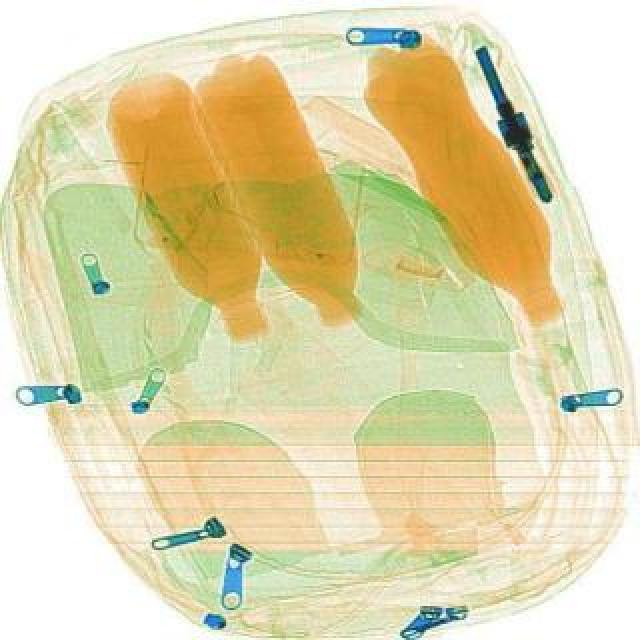gun: (470, 36, 560, 204)
